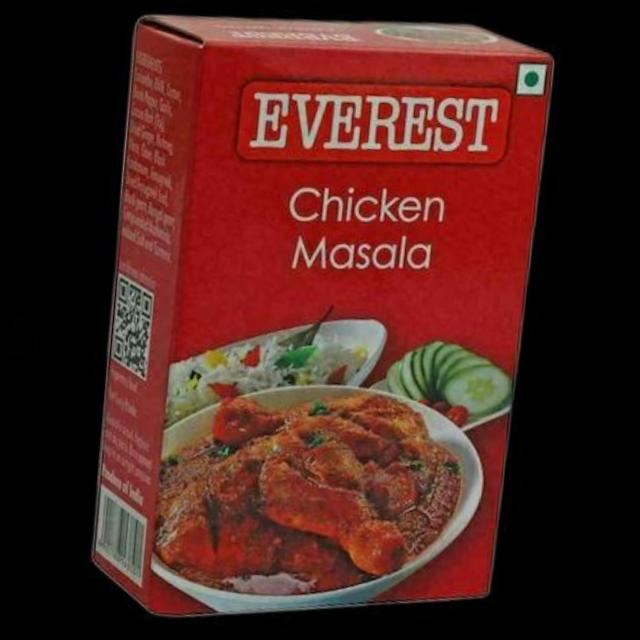Everest Chicken Masala 100 g: (77, 0, 565, 640)
